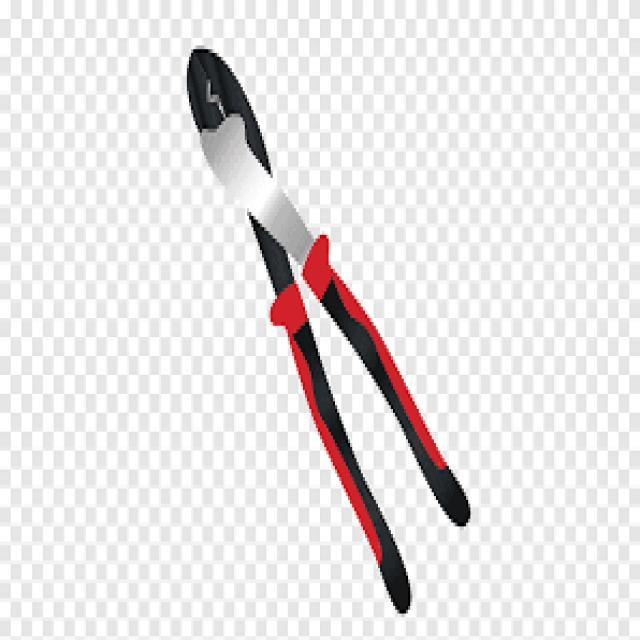pliers: (177, 28, 477, 629)
